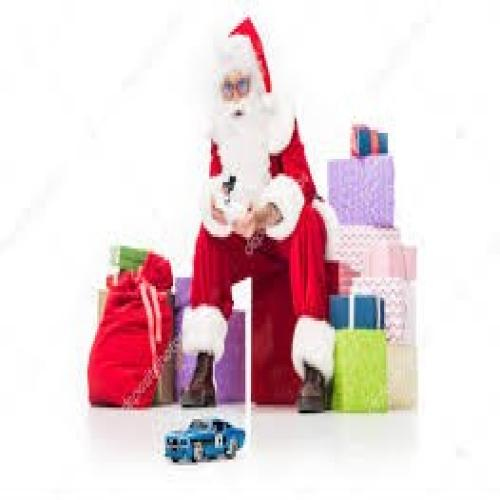Santa: (180, 13, 338, 413)
